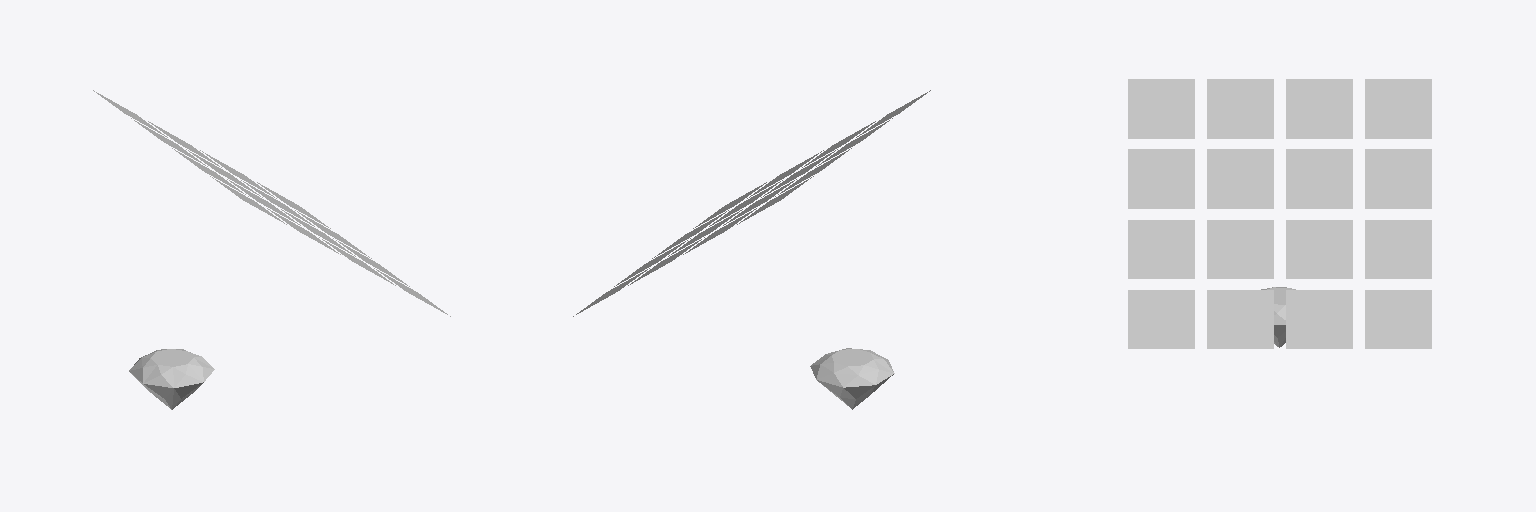
The model's file is Diamond.obj.
3 views of the same model, side by side, from view 1: azimuth 30°, elevation 25°; view 2: azimuth 150°, elevation 25°; view 3: azimuth 270°, elevation 25° (orthographic).
Parts seen in each view (by area): view 1: Cloner Plane_15; view 2: Cloner Plane_15; view 3: Cloner Plane_15, Cloner Plane_1, Cloner Plane_4, Cloner Plane_5, Cloner Plane_8, Cloner Plane_9, Cloner Plane_12, Cloner Plane_13, Cloner Plane_2, Cloner Plane_3, Cloner Plane_6, Cloner Plane_7 (+3 smaller).
Boxes of the visible parts, x1,y1,x2,y2 form: Cloner Plane_15: [129, 182, 330, 409]; Cloner Plane_15: [573, 268, 894, 409]; Cloner Plane_15: [1261, 287, 1431, 348]; Cloner Plane_1: [1128, 149, 1194, 208]; Cloner Plane_4: [1207, 79, 1273, 138]; Cloner Plane_5: [1207, 149, 1273, 208]; Cloner Plane_8: [1286, 79, 1352, 138]; Cloner Plane_9: [1286, 149, 1352, 208]; Cloner Plane_12: [1365, 79, 1431, 138]; Cloner Plane_13: [1365, 149, 1431, 208]; Cloner Plane_2: [1128, 220, 1194, 278]; Cloner Plane_3: [1128, 290, 1194, 348]; Cloner Plane_6: [1207, 220, 1273, 278]; Cloner Plane_7: [1207, 290, 1273, 348].
Bounding box in the file's own units: 641 × 681 × 705.